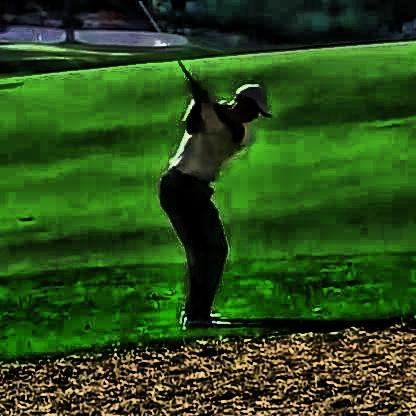golfball: (310, 301, 317, 311)
